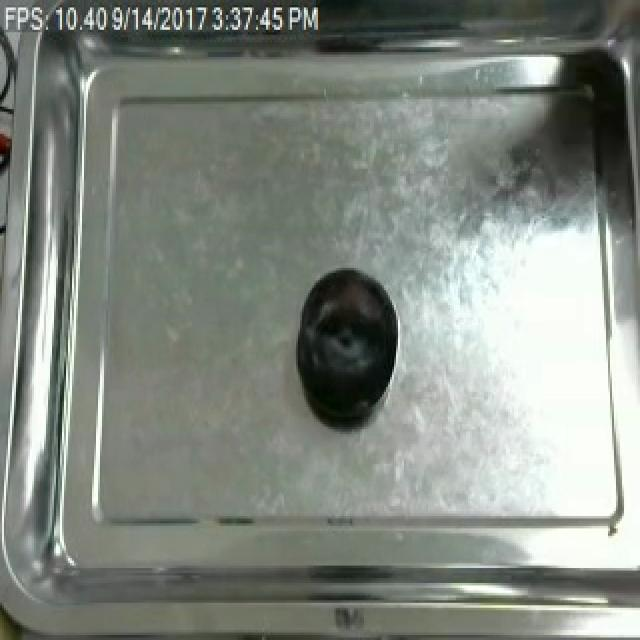Fruit: (290, 260, 402, 427)
